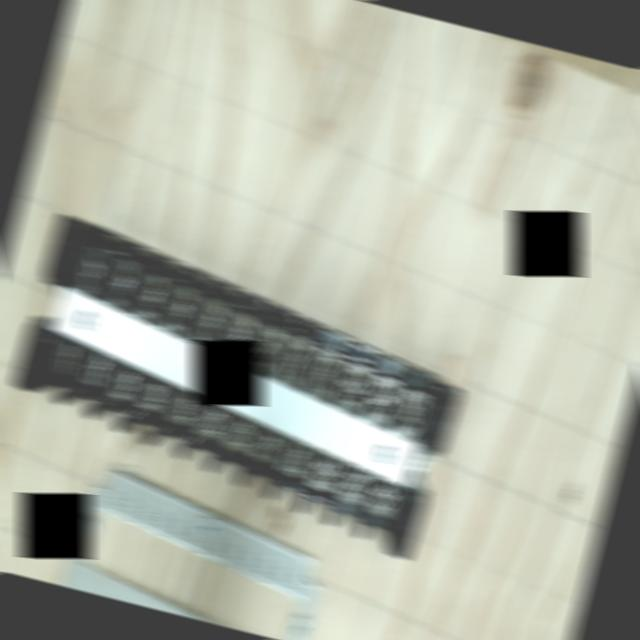Phillips_Block: (0, 213, 478, 559)
